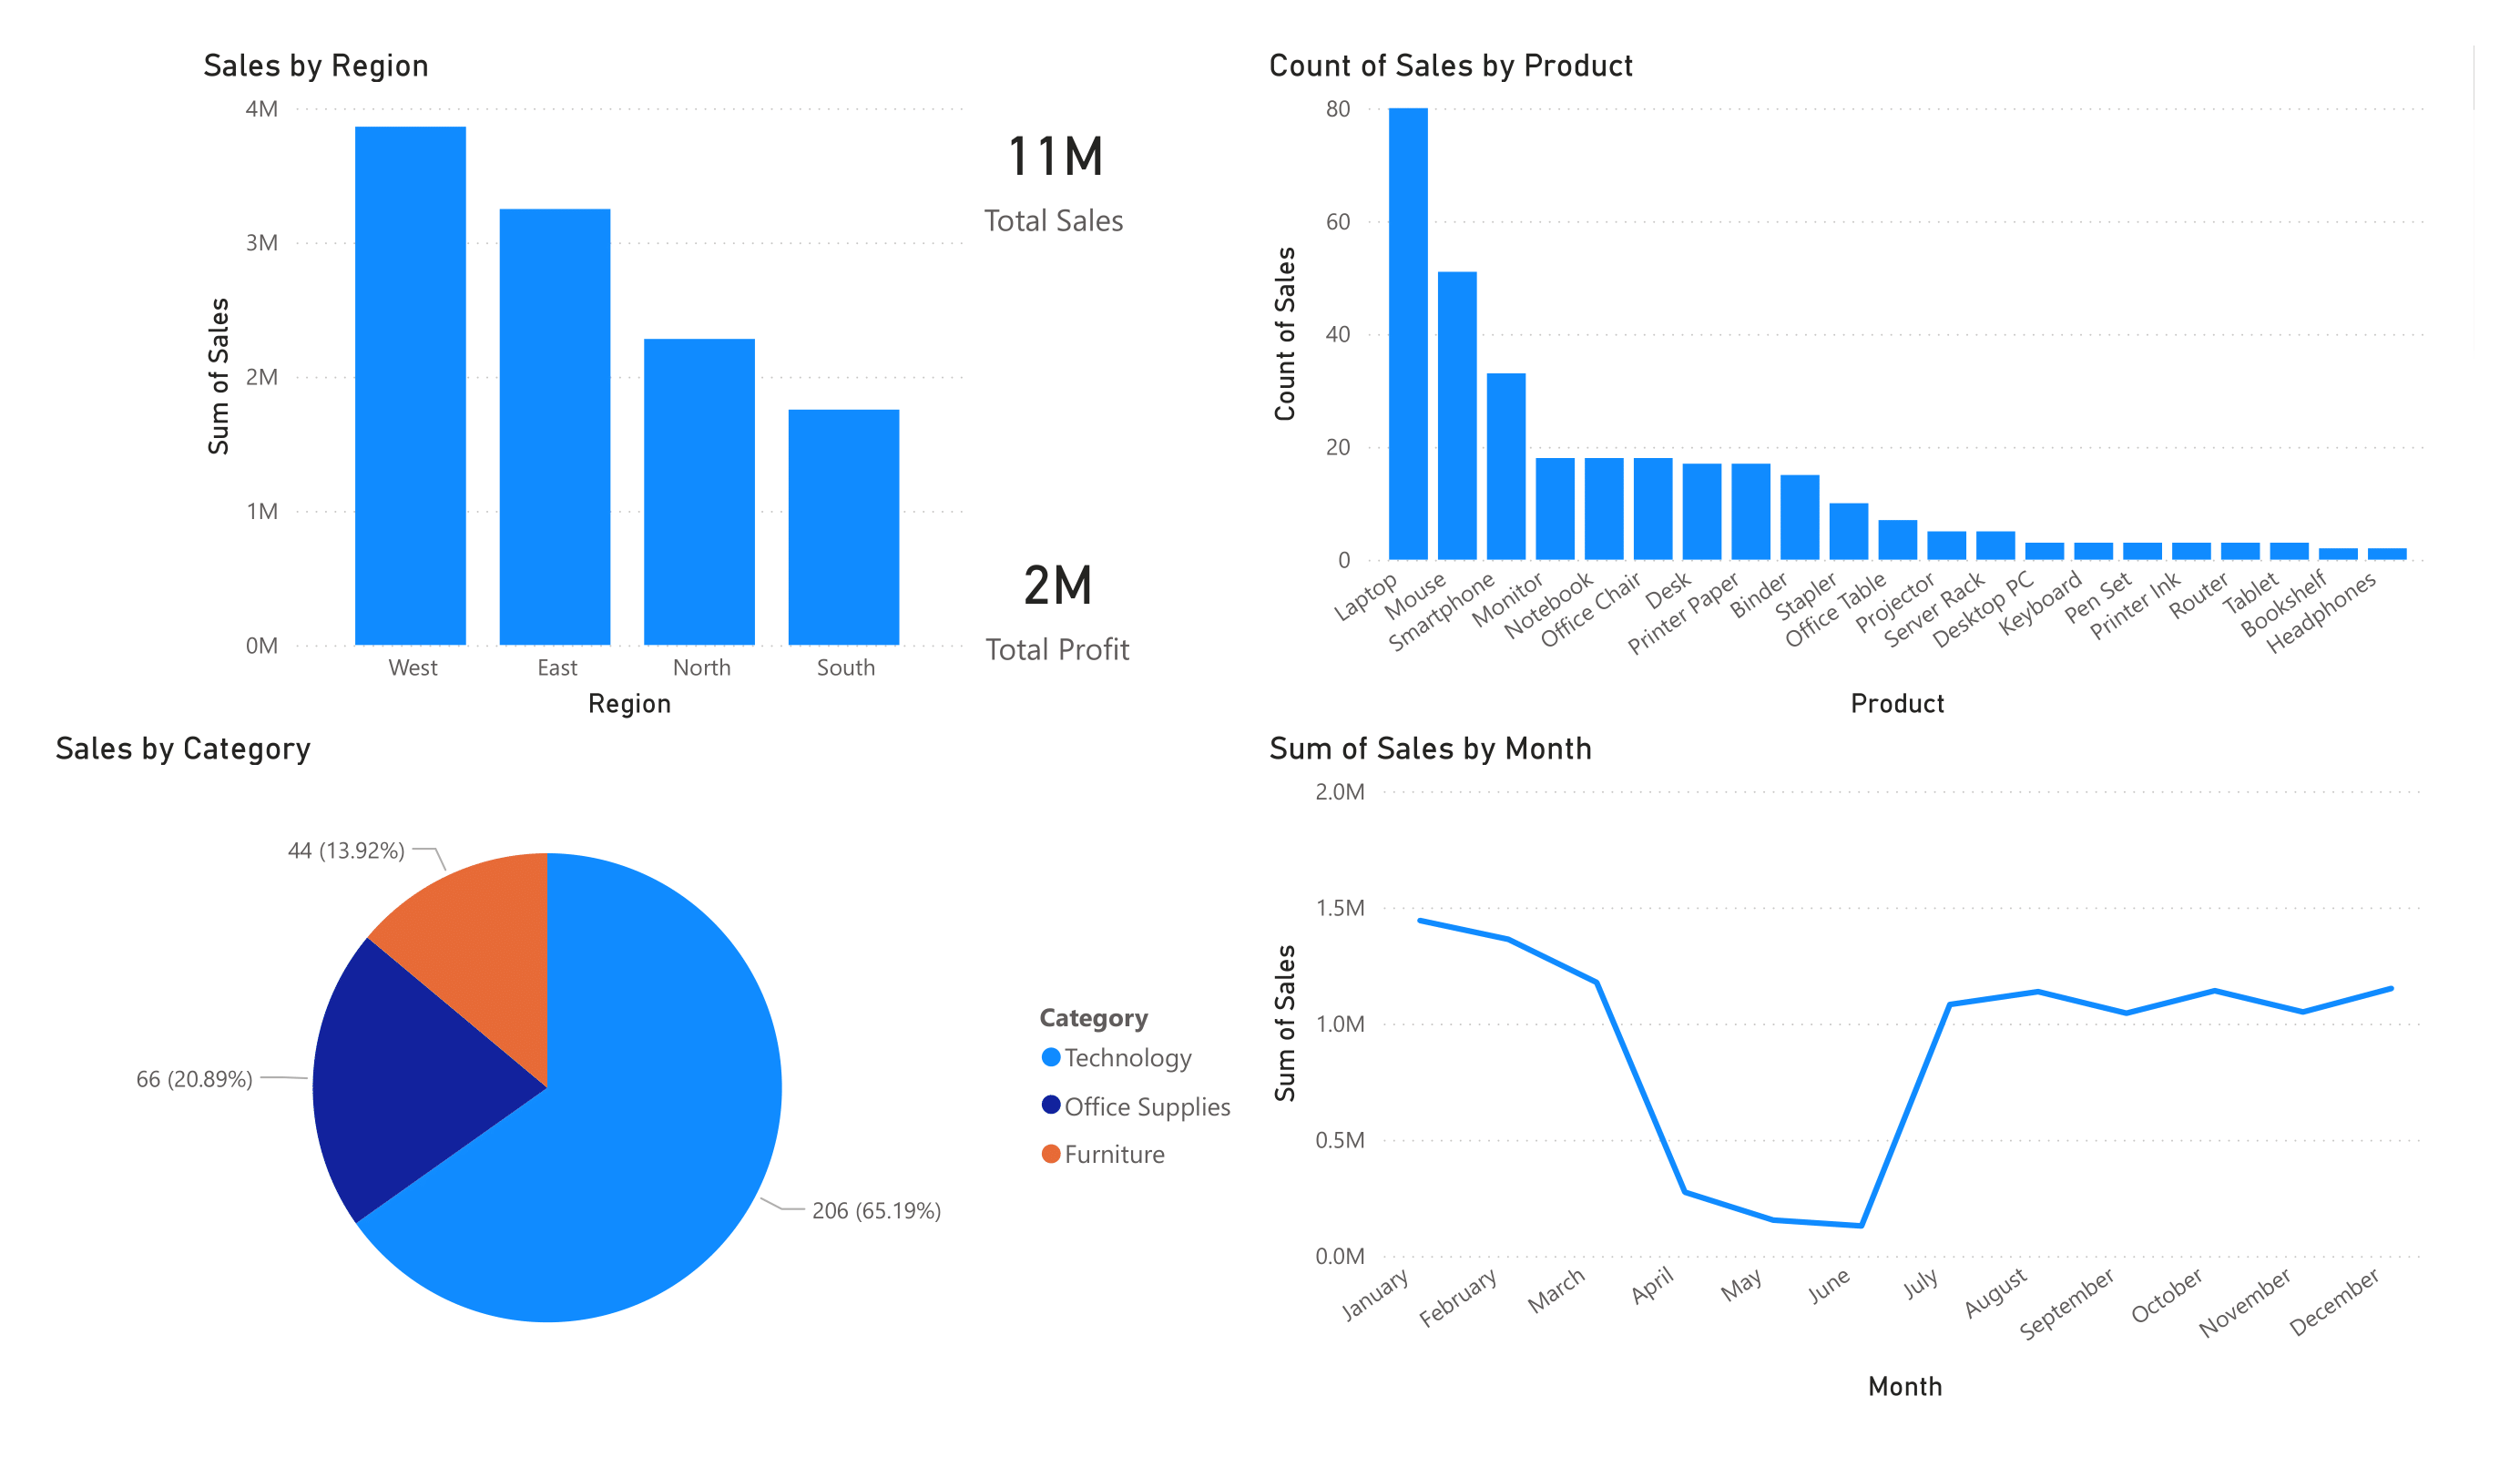

The page's visual inventory and layout, read from the dashboard file:
{"tool":"powerbi","page":{"name":"Page 1","canvas":[1280,720],"ordinal":0},"visuals":[{"type":"card","fields":{"Values":["sales_data.Total Sales"]},"box":[487.5,0,87.5,133.8],"z":0},{"type":"card","fields":{"Values":["sales_data.Total Profit"]},"box":[487.5,226.2,91.2,133.8],"z":1000},{"type":"clusteredColumnChart","title":"Sales by Region","fields":{"Y":["Sum(sales_data.Sales)"],"Category":["sales_data.Region"]},"box":[0,0,466.2,360],"z":2000},{"type":"pieChart","title":"Sales by Category","fields":{"Y":["CountNonNull(sales_data.Sales)"],"Category":["sales_data.Category"]},"box":[0,359.5,639.5,360.9],"z":3000},{"type":"clusteredColumnChart","title":"Top Products by Sales","fields":{"Category":["sales_data.Product"],"Y":["Sum(sales_data.Sales)"]},"box":[640,0,620,360],"z":4000},{"type":"lineChart","title":"Monthly Sales Trend","fields":{"Category":["sales_data.OrderDate.Variation.Date Hierarchy.Month","sales_data.OrderDate.Variation.Date Hierarchy.Day"],"Y":["Sum(sales_data.Sales)"]},"box":[640,360,620,360],"z":5000}]}

Visuals, with their boxes on the page's 1280x720 design canvas (x1, y1, x2, y2). These are canvas units, not pixel positions in the 2520x1457 screenshot, which may show the page scaled, cropped or inside an application window:
card - sales_data.Total Sales: 488 0 575 134
card - sales_data.Total Profit: 488 226 579 360
"Sales by Region" clusteredColumnChart: 0 0 466 360
"Sales by Category" pieChart: 0 360 640 720
"Top Products by Sales" clusteredColumnChart: 640 0 1260 360
"Monthly Sales Trend" lineChart: 640 360 1260 720
